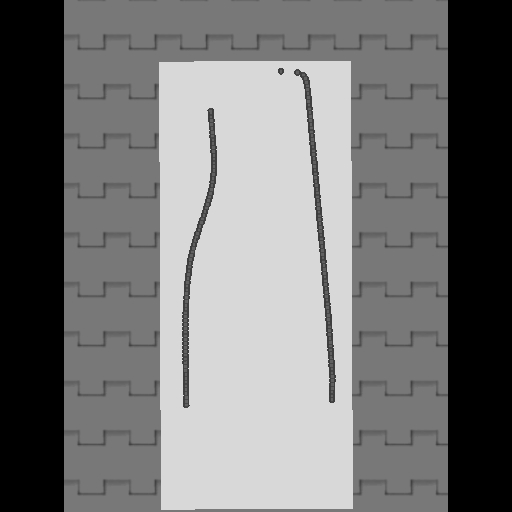Defect: (180, 403, 336, 498)
